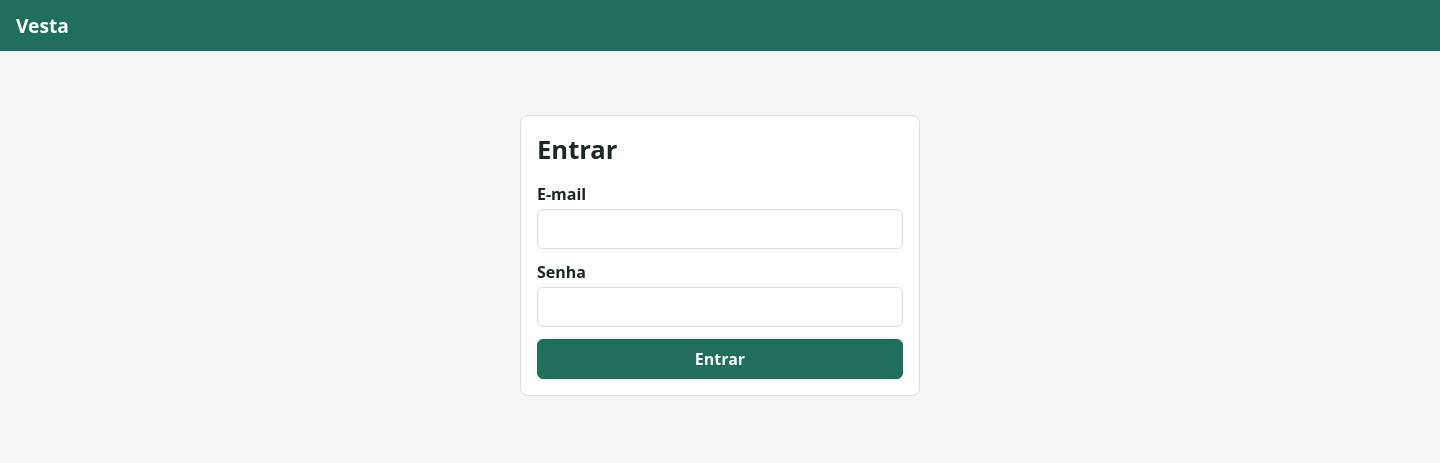
Test: LoginPage › shows the backend message when the credentials are wrong
In the field labelled "E-mail": [720, 229] box [537,209,903,249], type "carlos@silva.demo"
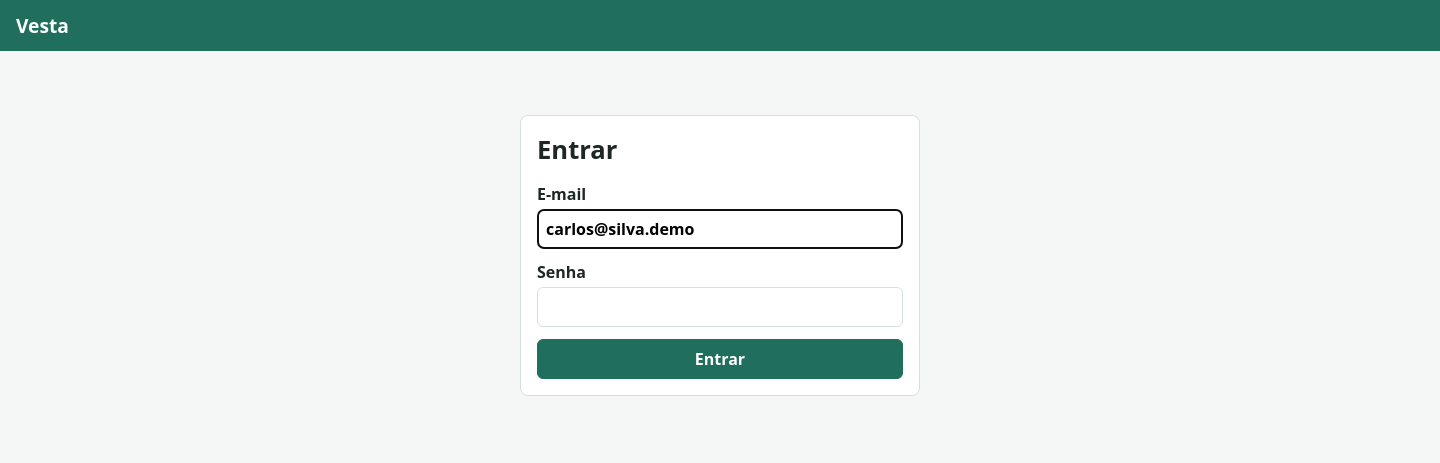
In the password field labelled "Senha": [720, 307] box [537,287,903,327], type "vesta-demo"
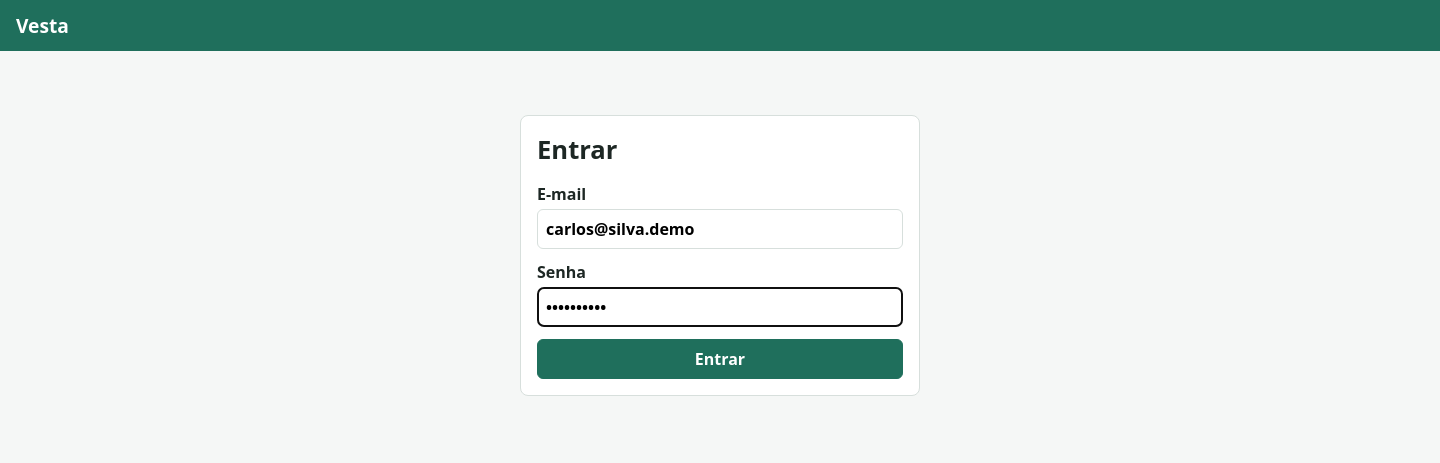
Click the button "Entrar": [720, 359] box [537,339,903,379]
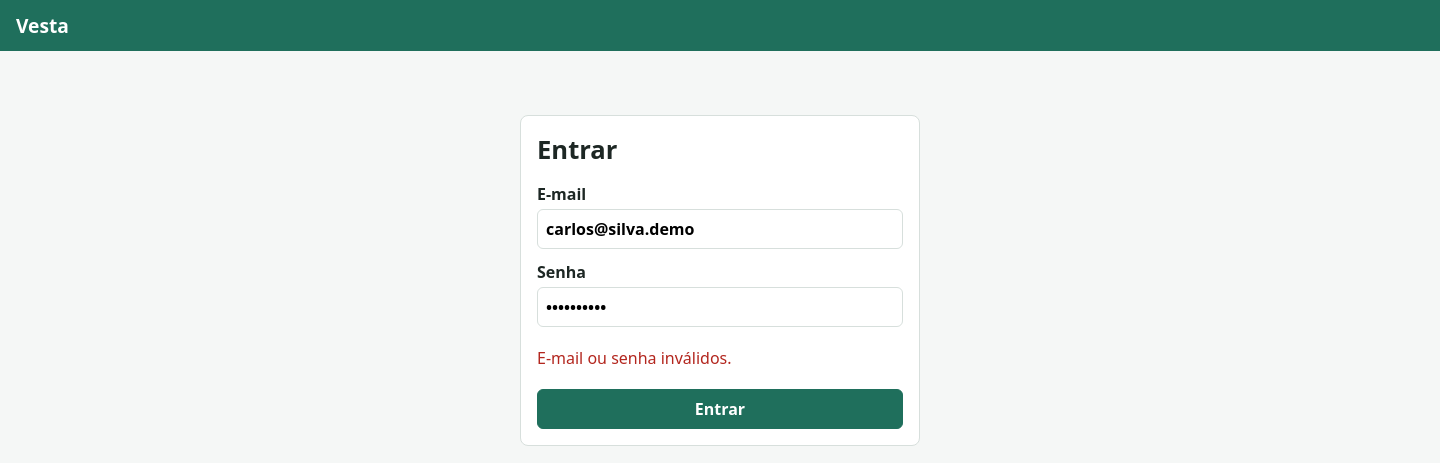
Check: the message reads "E-mail ou senha inválidos.", box [537,347,732,369]
